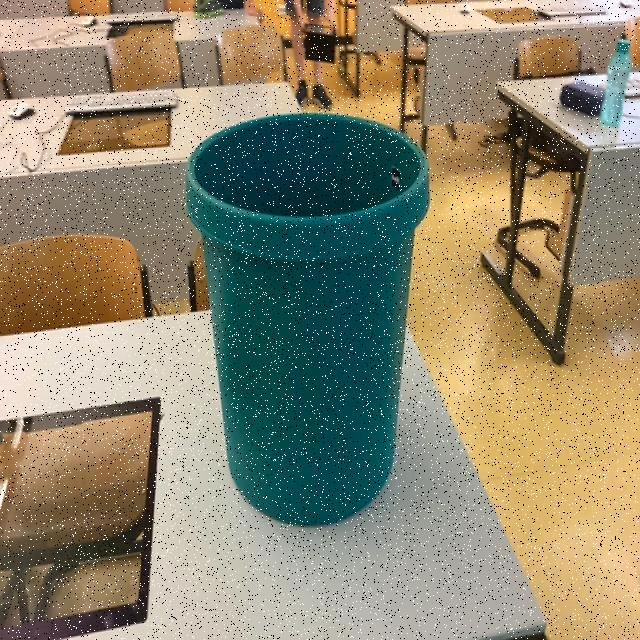garbage container: (164, 90, 467, 526)
